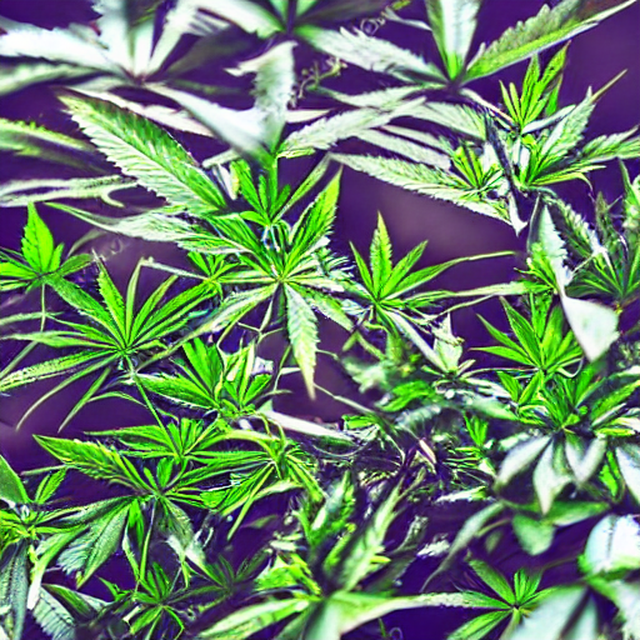Marijuana Plant: (0, 88, 640, 639)
